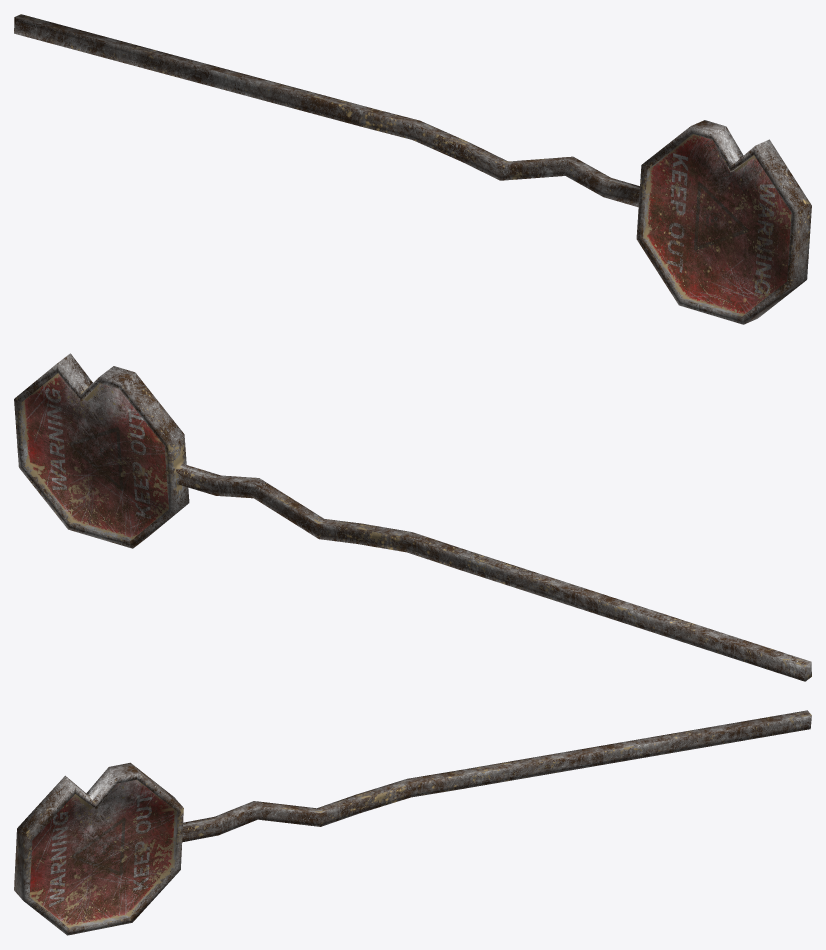
Rendered from Anim_idle_senyal_objetos.0016.obj.
3 views of the same model, one above another, from view 1: azimuth 30°, elevation 25°; view 2: azimuth 210°, elevation 25°; view 3: azimuth 270°, elevation 25° (orthographic). The views are drawn at different scales.
Size of the model in its own units: 5.54 by 2.52 by 11.48.
